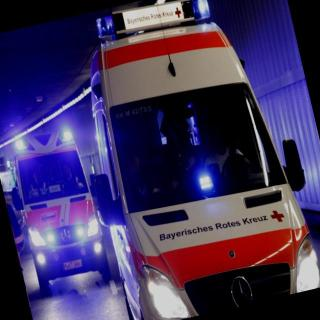Ambulance: (2, 125, 119, 320)
